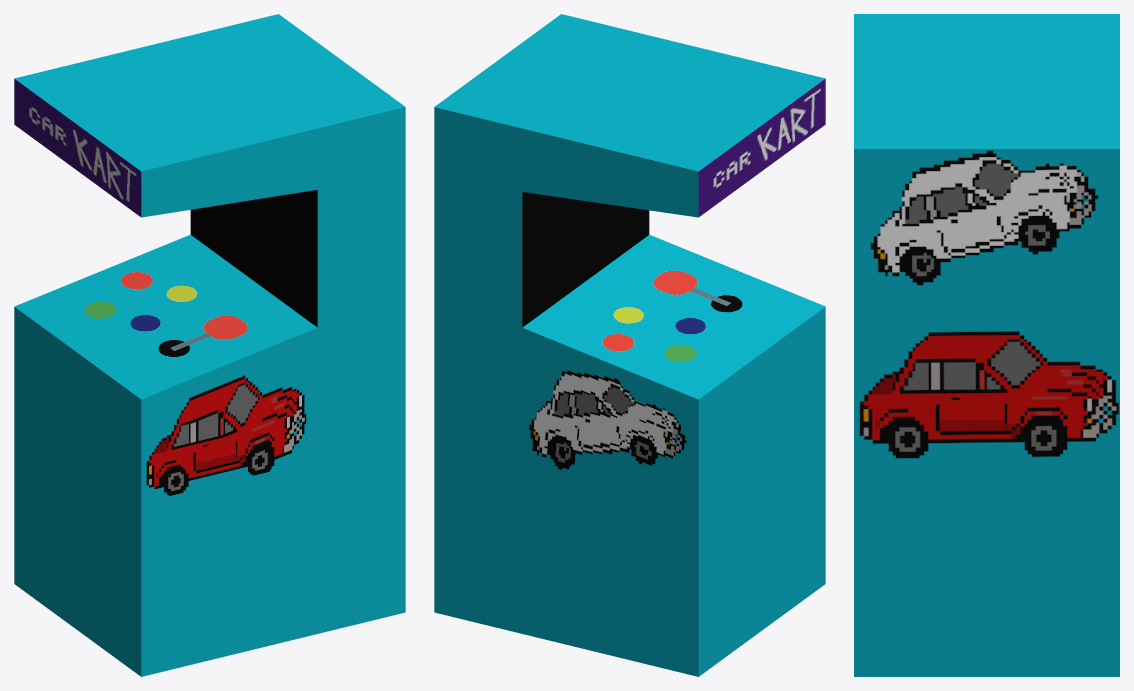
The model's file is Cabinet.glb.
3 views of the same model, side by side, from view 1: azimuth 30°, elevation 25°; view 2: azimuth 150°, elevation 25°; view 3: azimuth 270°, elevation 25° (orthographic). The views are drawn at different scales.
Parts seen in each view (by area): view 1: Cabinet; view 2: Cabinet; view 3: Cabinet.
Part boxes in pixels (x1,y1,x2,y2): Cabinet: (14, 14, 405, 676); Cabinet: (434, 14, 825, 676); Cabinet: (854, 14, 1119, 676).
Bounding box in the file's own units: 4.45 × 8.13 × 3.71.
Materials: 5 (3 with a texture image).
